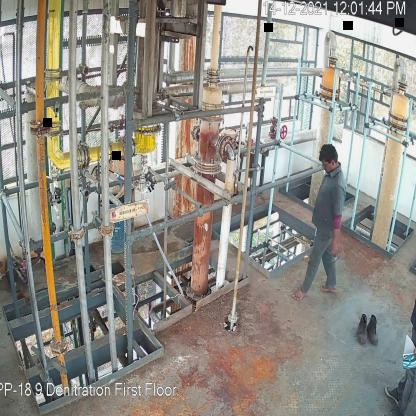no_shoes: (320, 284, 340, 297), (294, 284, 309, 299)
shoes: (354, 311, 369, 345), (368, 315, 380, 344)
